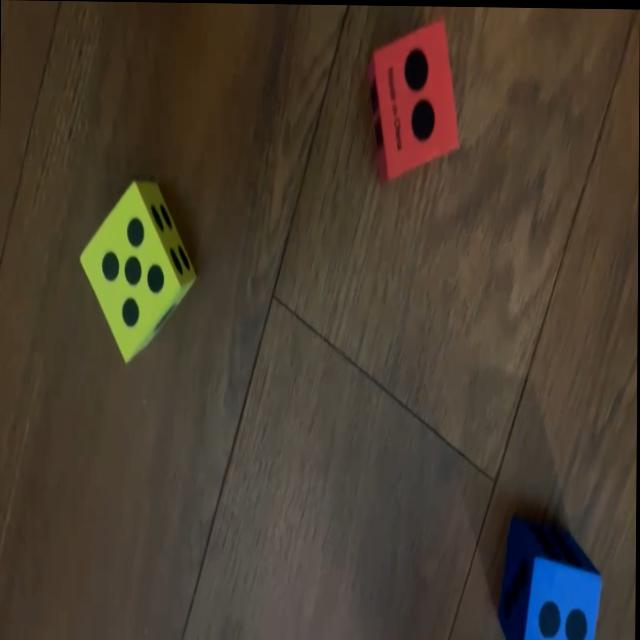cube: (367, 21, 458, 180), (498, 519, 603, 640)
